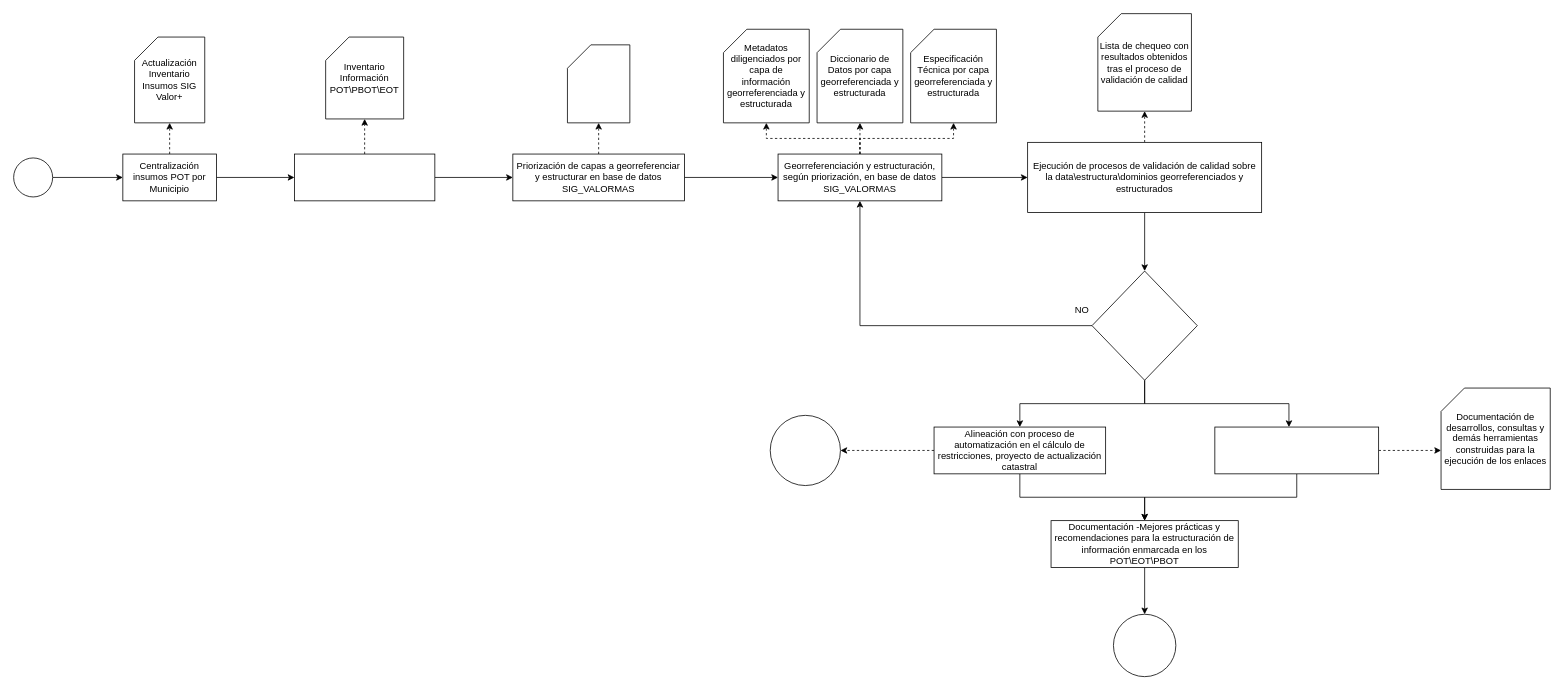
Image size: 1564x690. Some labels were removed from this diagram. Each missing label, with the centre of its shape:
Alineación con analítica predial, proyecto de actualización catastral: pixel 1296 450
Alineación Flujo Proceso Automatización Restricciones: pixel 804 450
Construcción de inventario con la información suministrada: pixel 364 177
FIN: pixel 1144 645
INICIO: pixel 33 177
Inventario Actualizado: pixel 598 83
¿Se aprueba el control de calidad?: pixel 1144 325
